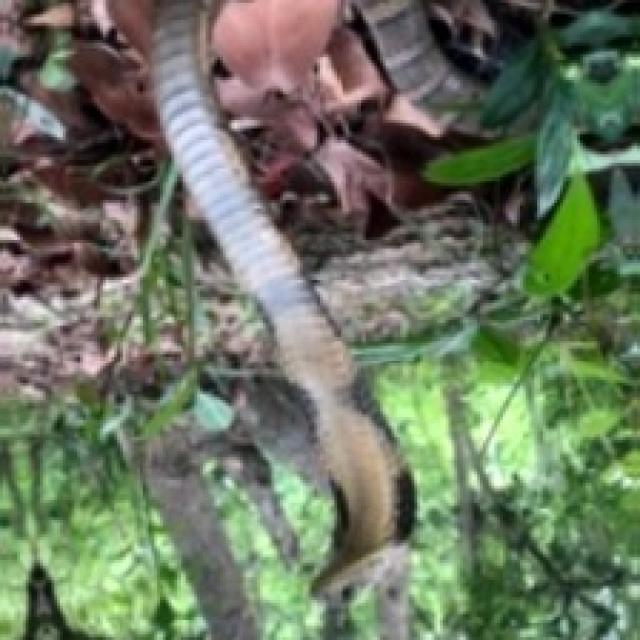king cobra: (149, 0, 411, 637)
